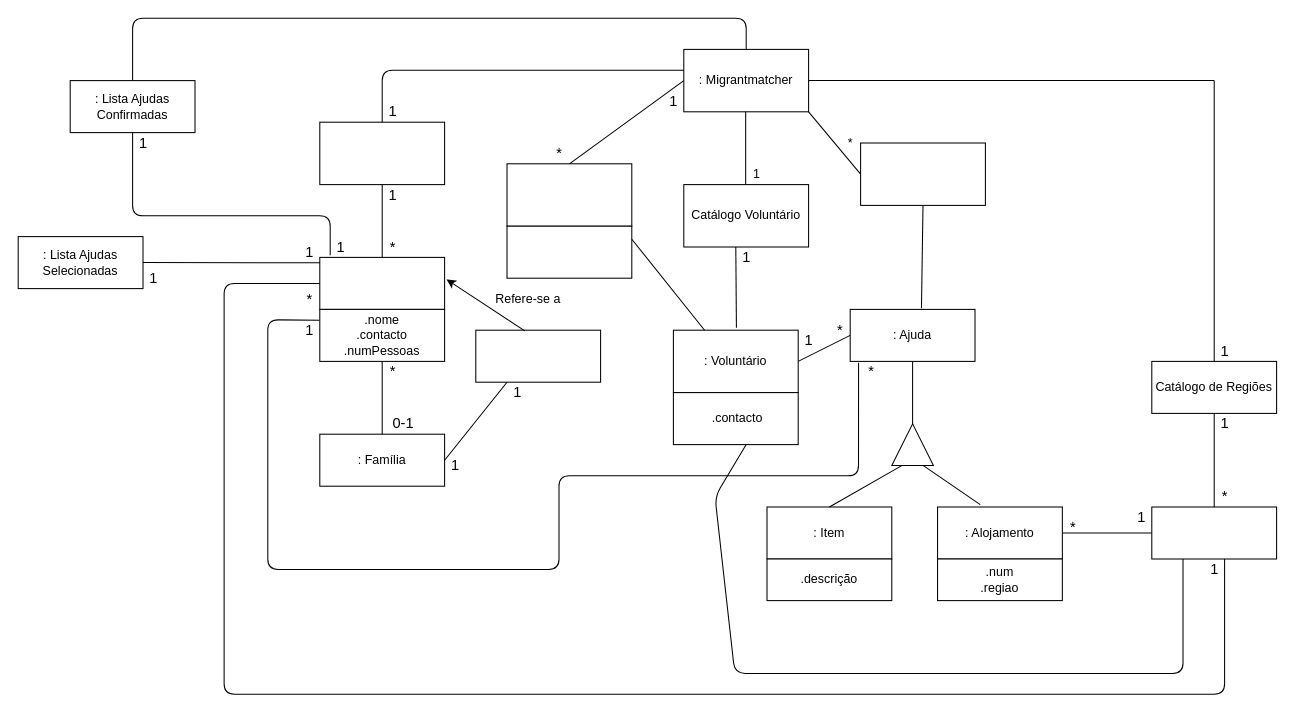
Some shapes in this 1295 by 713 pixel diagram are drawn without their labels. Each missing label, with the centre of its shape:
.código .mensagem: point 569,251
: Cabeça de Casal: point 538,355
: Migrante: point 382,282
: Região: point 1214,532
: SMS: point 569,194
Catálogo Ajuda: point 922,173
Catálogo Migrante: point 382,153
